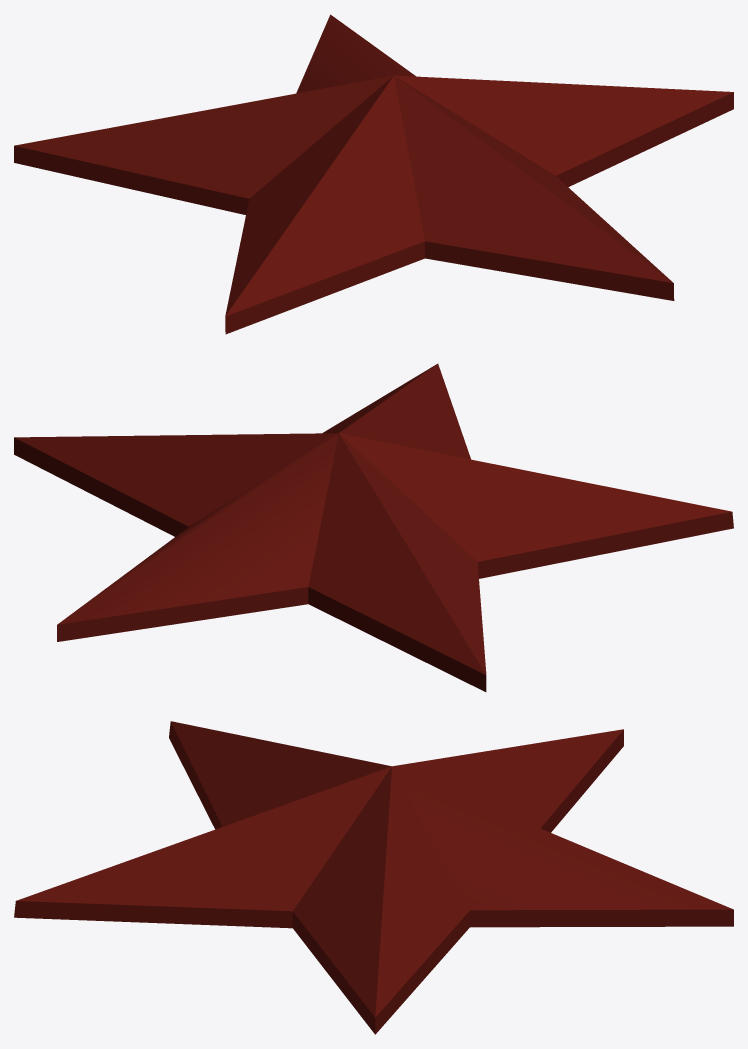
File: star_red_prototype.fbx
3 views of the same model, one above another, from view 1: azimuth 30°, elevation 25°; view 2: azimuth 150°, elevation 25°; view 3: azimuth 270°, elevation 25° (orthographic).
Visible parts, largest first — view 1: Box012; view 2: Box012; view 3: Box012.
Boxes of the visible parts, x1,y1,x2,y2 form: Box012: (14,14,733,334); Box012: (14,363,733,691); Box012: (14,721,733,1034).
Bounding box in the file's own units: 8.82 × 1.49 × 9.04.
